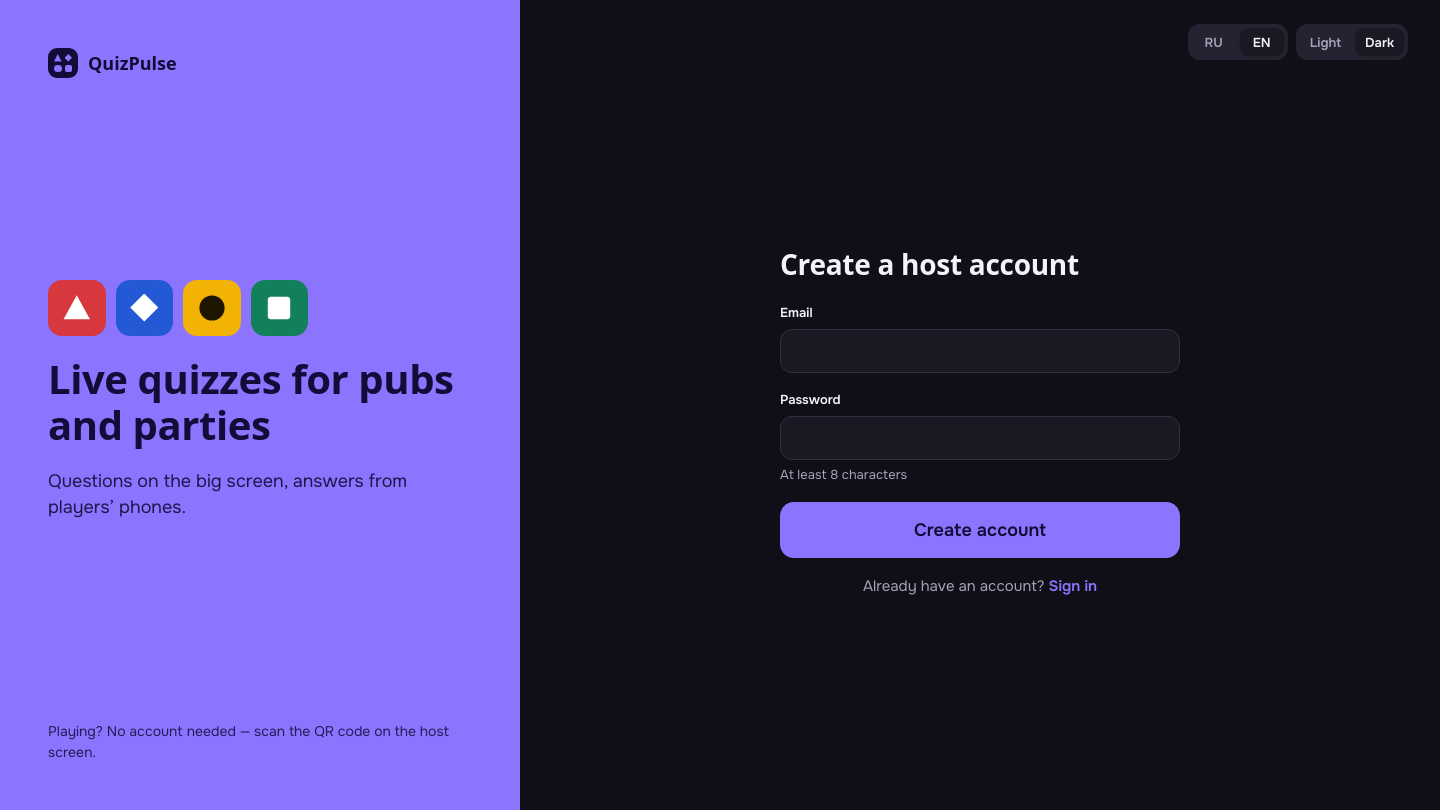
register page › shows EMAIL_TAKEN on email field
Type "host@example.com" into the field labelled "Email" at x=980, y=351, box x1=780 y1=329 x2=1180 y2=373
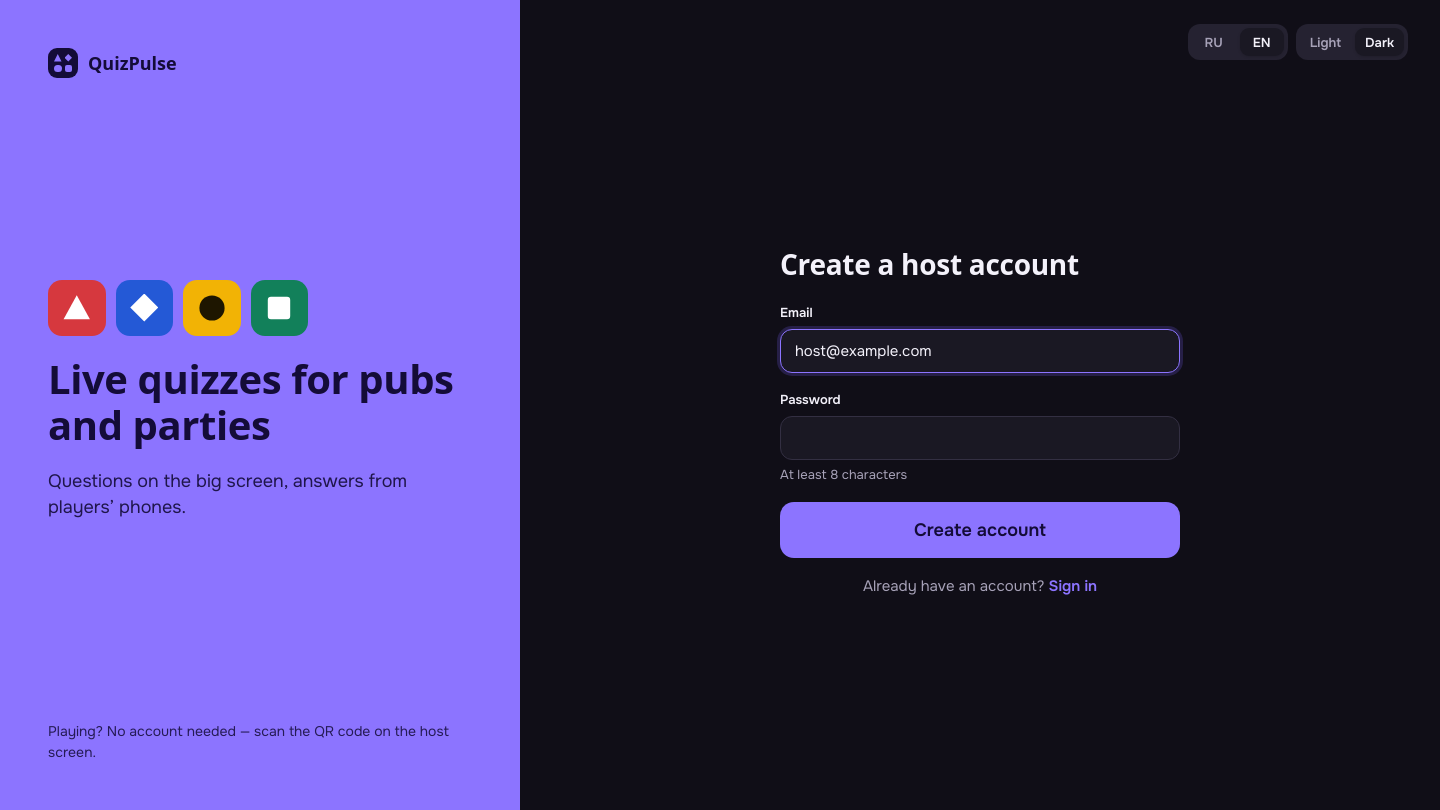
Type "password1" into the password field labelled "Password" at x=980, y=438, box x1=780 y1=416 x2=1180 y2=460
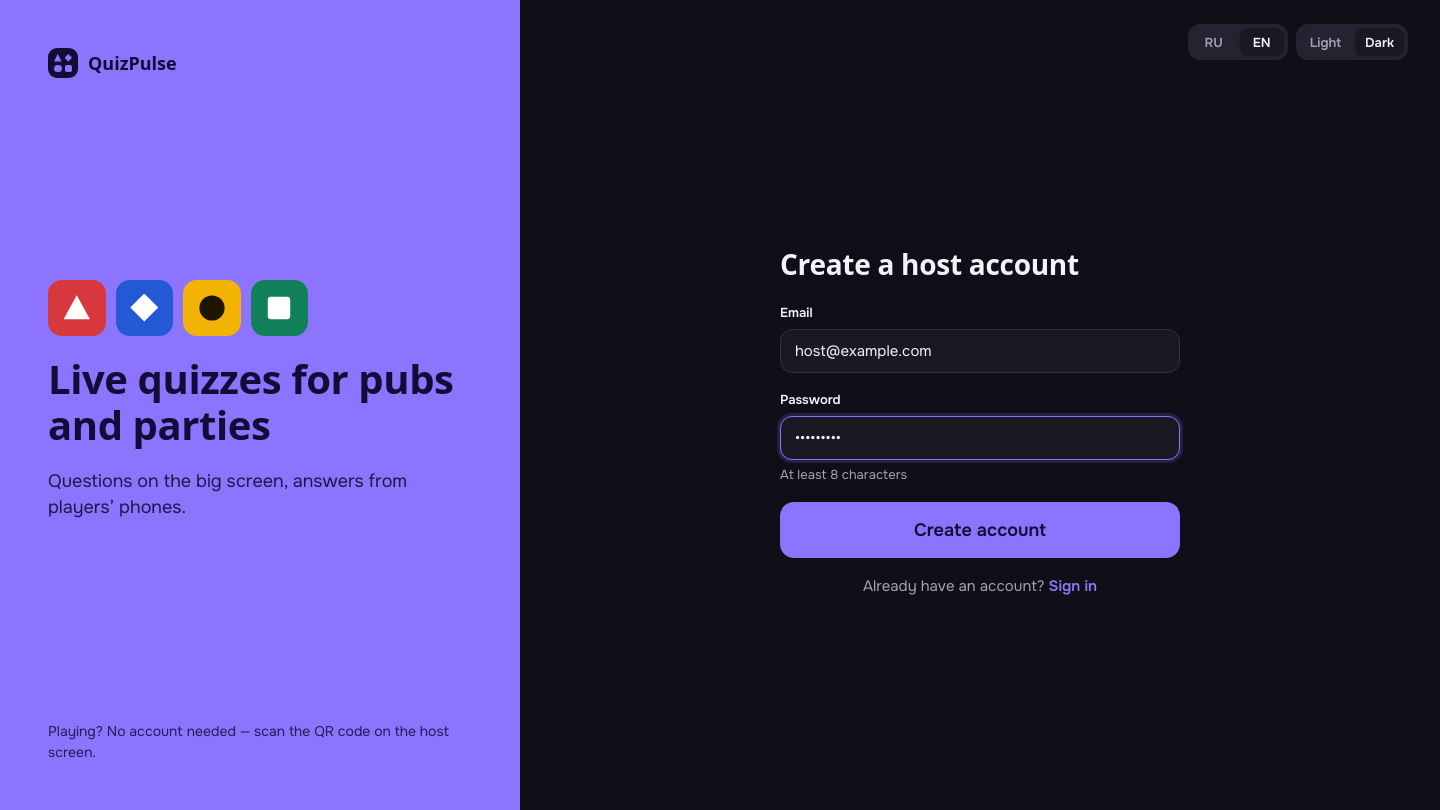
Click the button "Create account" at x=980, y=530, box x1=780 y1=502 x2=1180 y2=558
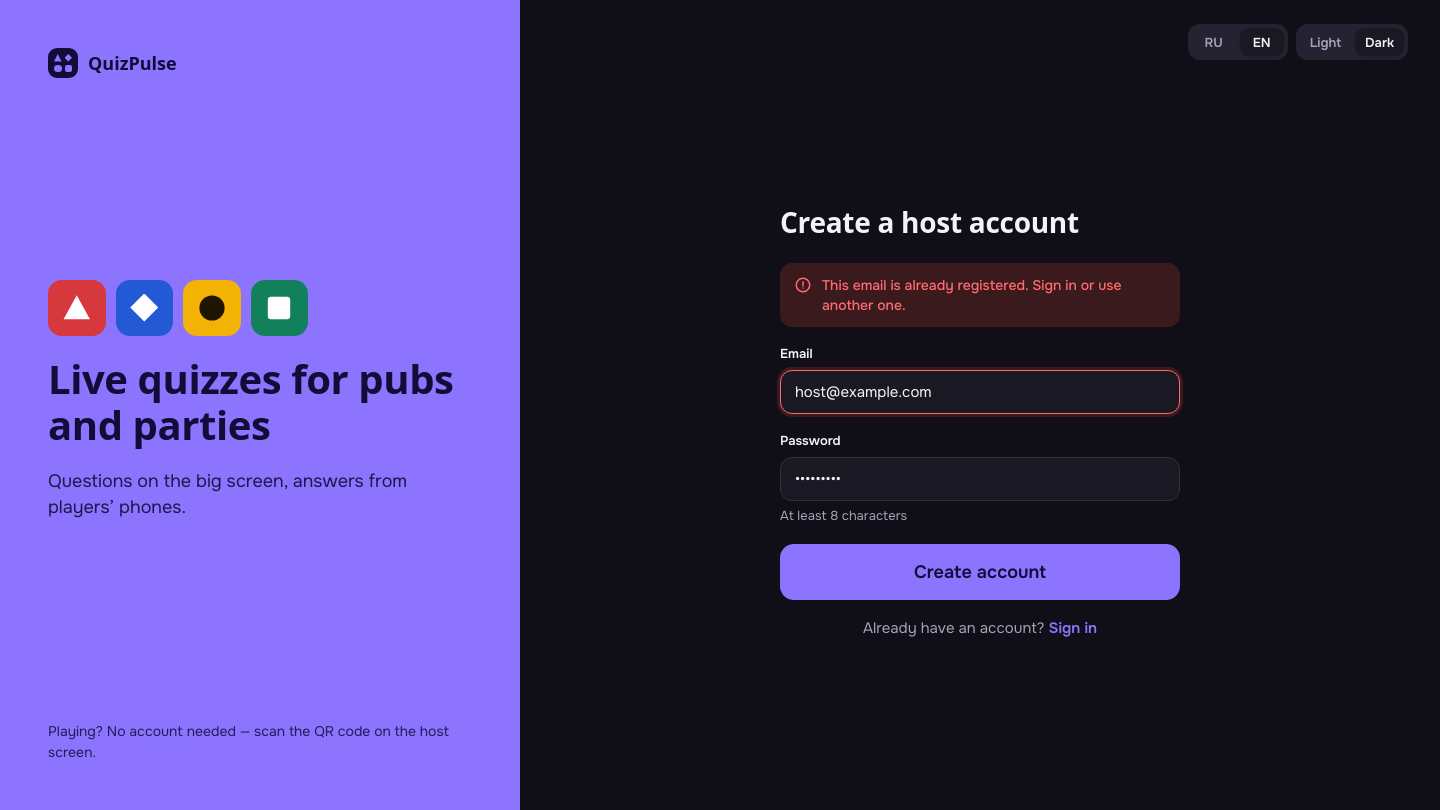
Now the message reads "This email is already registered. Sign in or use another one.", box x1=822 y1=276 x2=1122 y2=314
